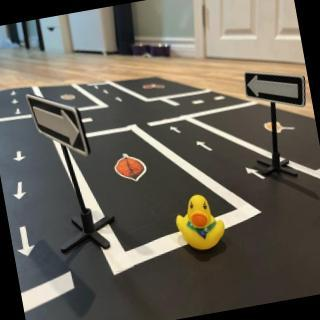duck_regular: (174, 186, 233, 255)
road_oneway: (14, 223, 38, 262), (245, 161, 268, 186), (12, 176, 30, 204), (194, 136, 215, 158), (12, 145, 29, 166), (168, 124, 182, 138), (11, 107, 25, 120), (11, 88, 20, 100), (12, 99, 23, 108)
sign_oneway_left: (243, 62, 309, 118)
sign_oneway_right: (28, 88, 90, 165)
